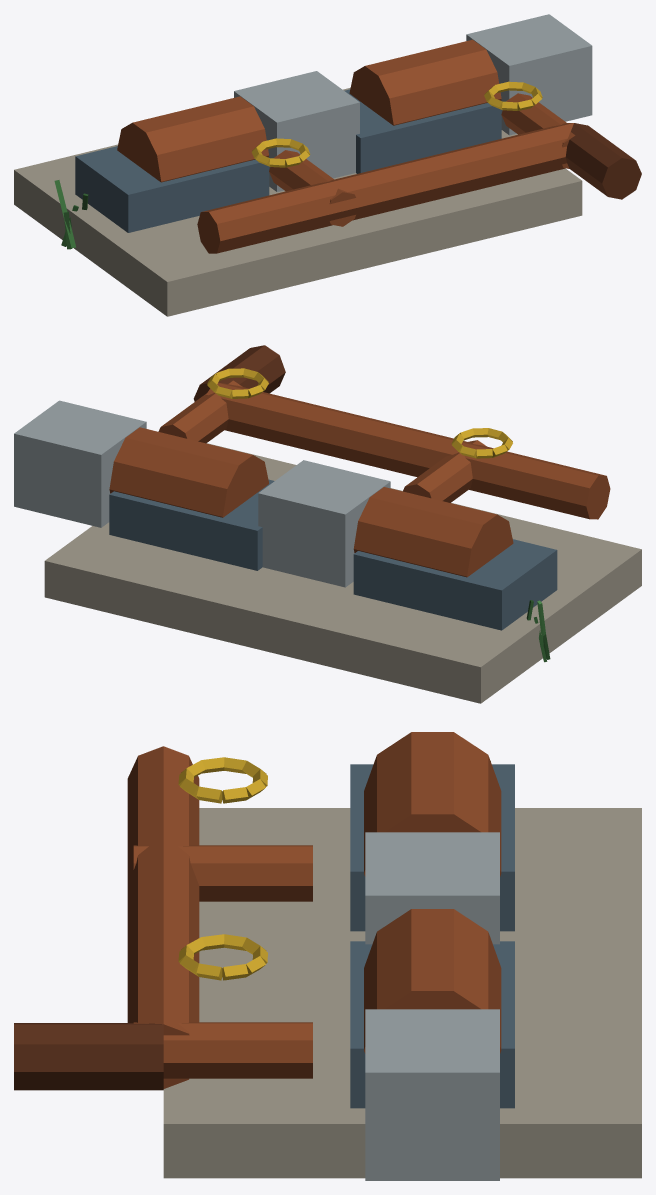
Rendered from ChemPlant_PumpSkid.fbx.
3 views of the same model, one above another, from view 1: azimuth 30°, elevation 25°; view 2: azimuth 150°, elevation 25°; view 3: azimuth 270°, elevation 25° (orthographic). The views are drawn at different scales.
Parts seen in each view (by area): view 1: ChemPlant_PumpSkid; view 2: ChemPlant_PumpSkid; view 3: ChemPlant_PumpSkid.
Part boxes in pixels (x1,y1,x2,y2): ChemPlant_PumpSkid: (14,14,641,316); ChemPlant_PumpSkid: (14,345,641,703); ChemPlant_PumpSkid: (14,732,641,1180).
Bounding box in the file's own units: 601 × 140 × 420.
